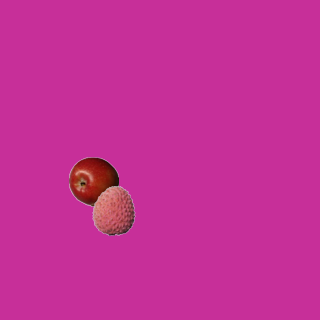Apple Braeburn: (68, 156, 118, 206)
Lychee: (88, 185, 138, 235)
